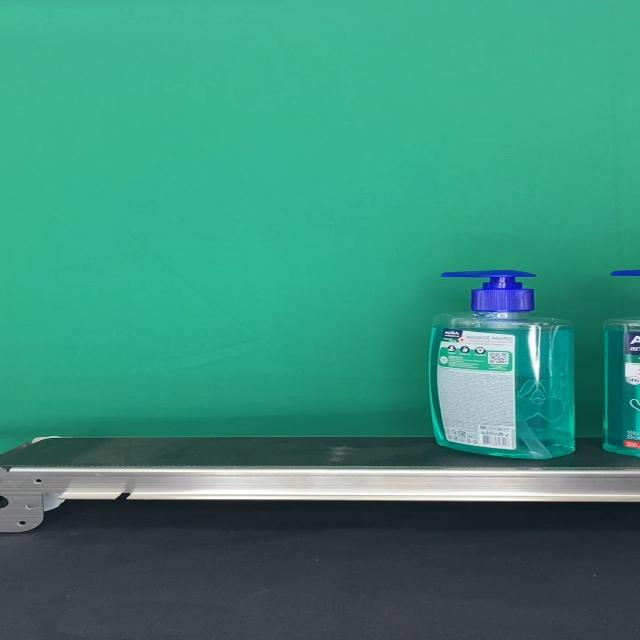Bottle: (428, 270, 575, 459)
Cap: (441, 270, 536, 312)
